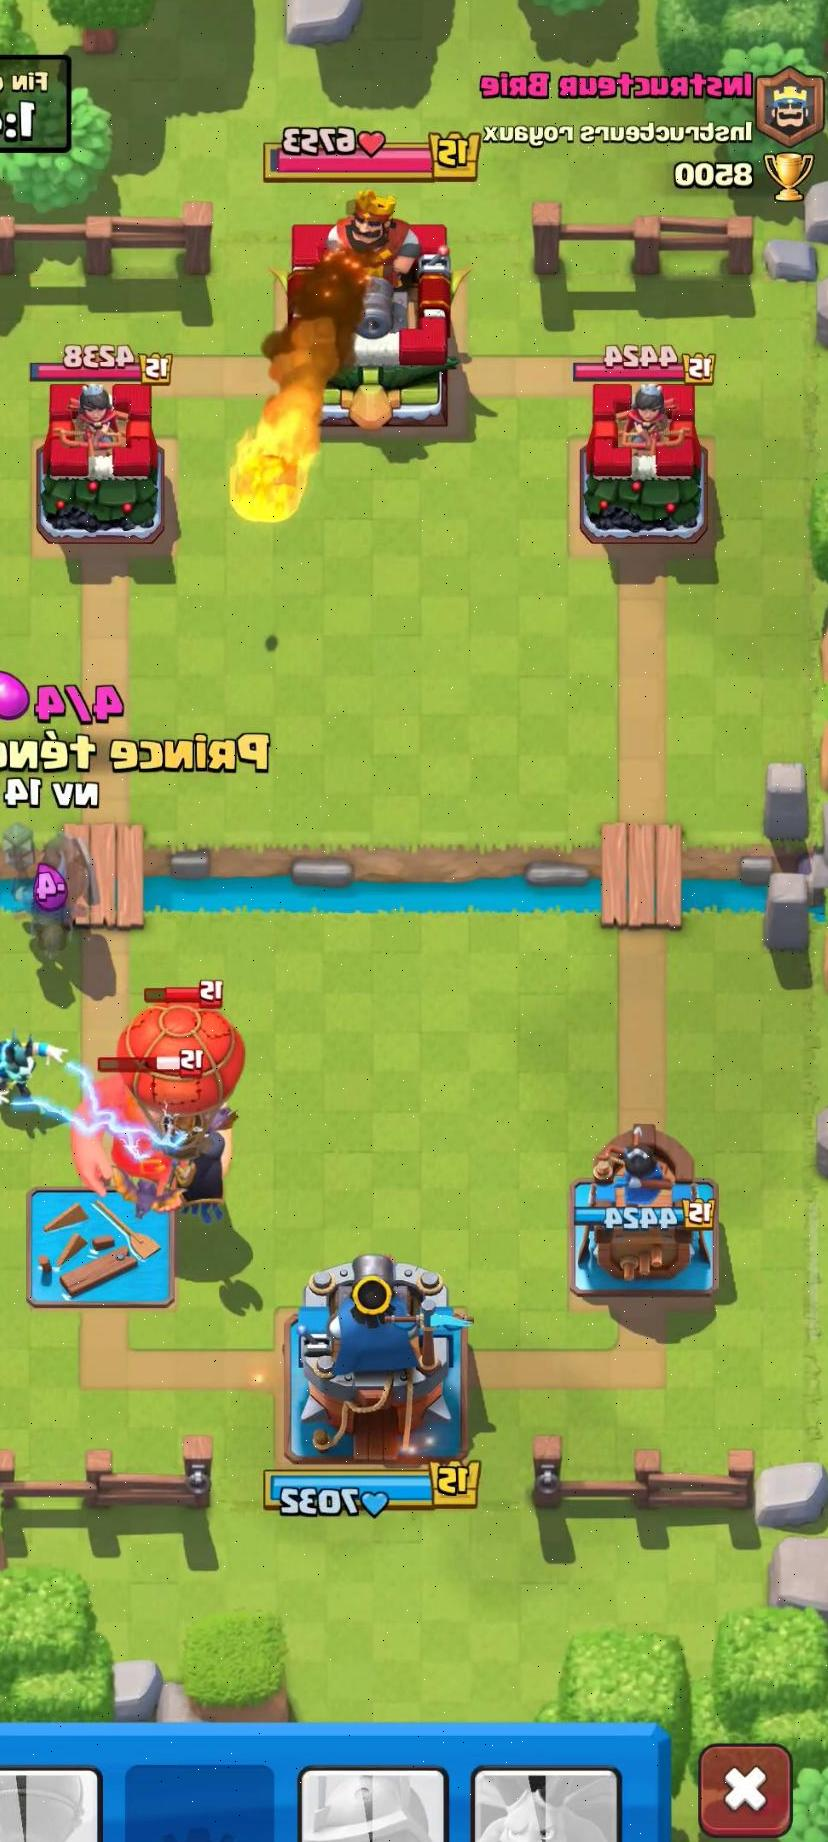enemy_balloon: (104, 961, 254, 1147)
enemy_fireball: (218, 285, 390, 554)
player_electro_wizard: (0, 1031, 50, 1112)
player_night_witch: (154, 1124, 239, 1228)
